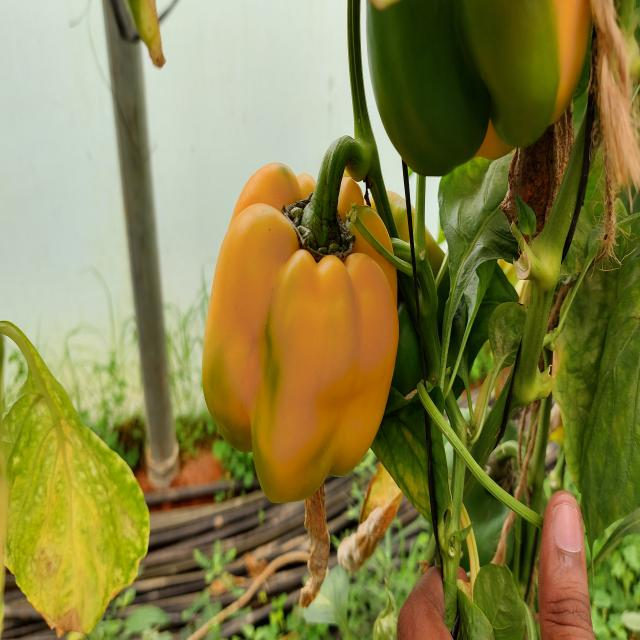Yellow-Ready-to-Harvest: (199, 159, 405, 508)
